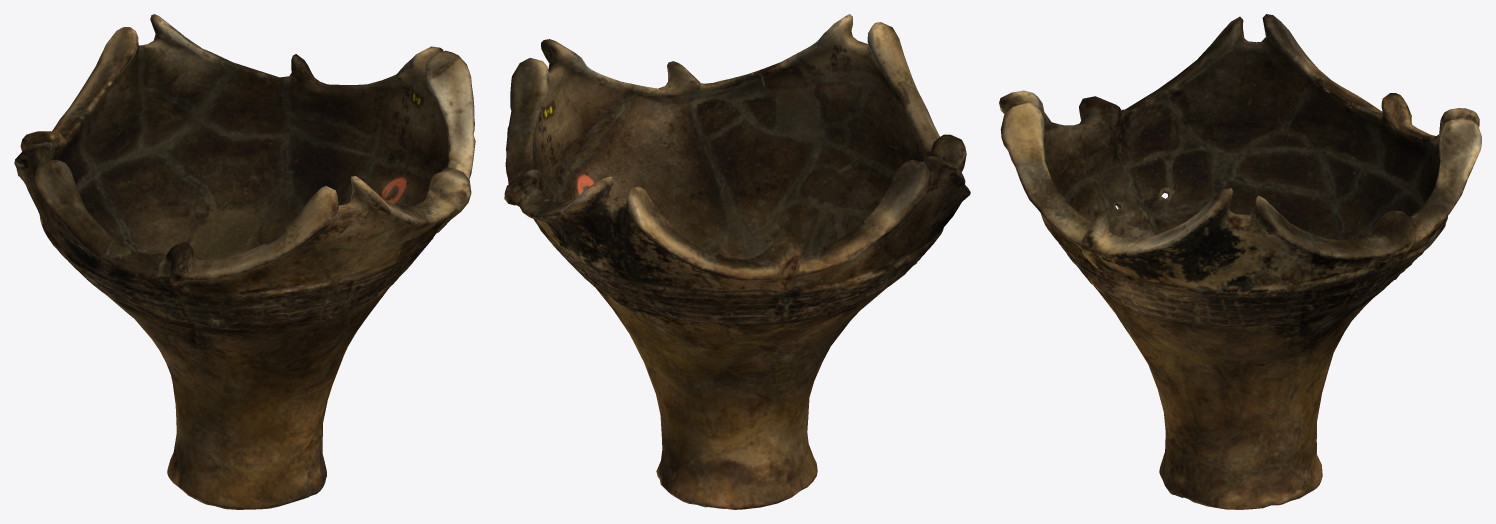
3 renders of one model, left to right at view 1: azimuth 30°, elevation 25°; view 2: azimuth 150°, elevation 25°; view 3: azimuth 270°, elevation 25°, orthographic.
Visible parts, largest first — view 1: SS0001_low; view 2: SS0001_low; view 3: SS0001_low.
Boxes of the visible parts, <box> form: SS0001_low: <box>14,14,475,509</box>; SS0001_low: <box>504,14,970,509</box>; SS0001_low: <box>999,14,1481,509</box>.
Bounding box in the file's own units: 300 × 257 × 296.
1 material, 1 textured.
